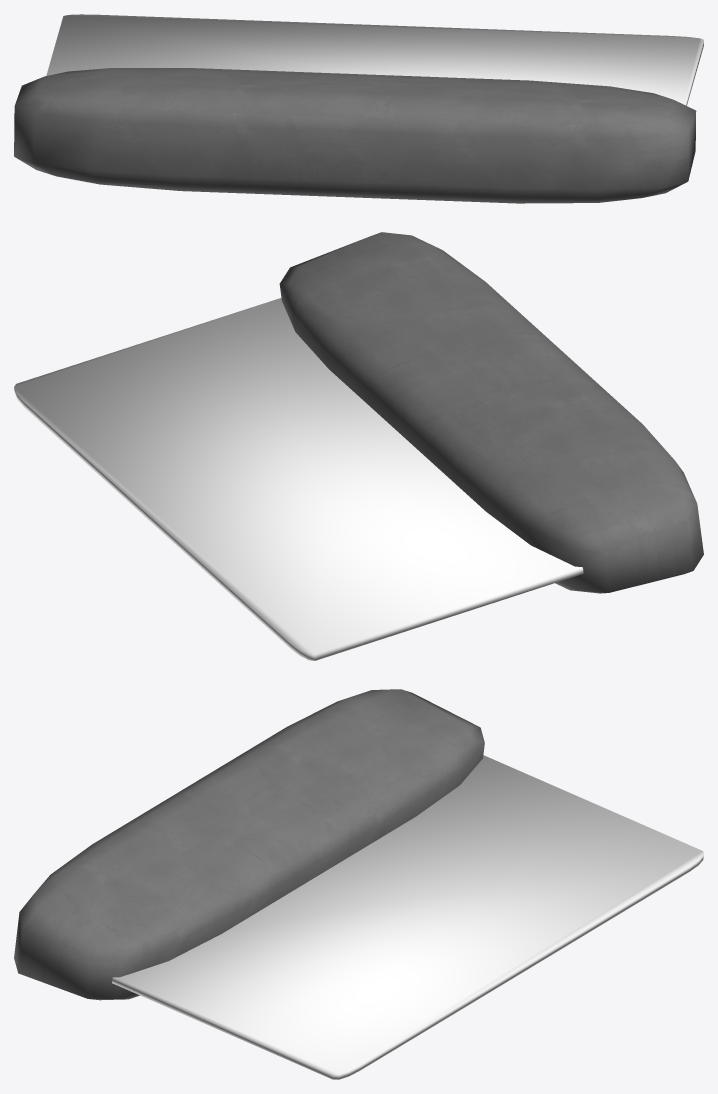
The model's file is scraper.glb.
The picture shows the model from 3 angles, top to bottom: view 1: azimuth 30°, elevation 25°; view 2: azimuth 150°, elevation 25°; view 3: azimuth 270°, elevation 25°; orthographic projection. The views are drawn at different scales.
Visible parts, largest first — view 1: Bench Scraper; view 2: Bench Scraper; view 3: Bench Scraper.
Boxes of the visible parts, bbox=[...] form: Bench Scraper: bbox=[14, 14, 703, 203]; Bench Scraper: bbox=[14, 232, 703, 660]; Bench Scraper: bbox=[14, 689, 703, 1079].
Size of the model in its own units: 0.4459 by 0.0621 by 0.4073.
Materials: 2 (1 with a texture image).
